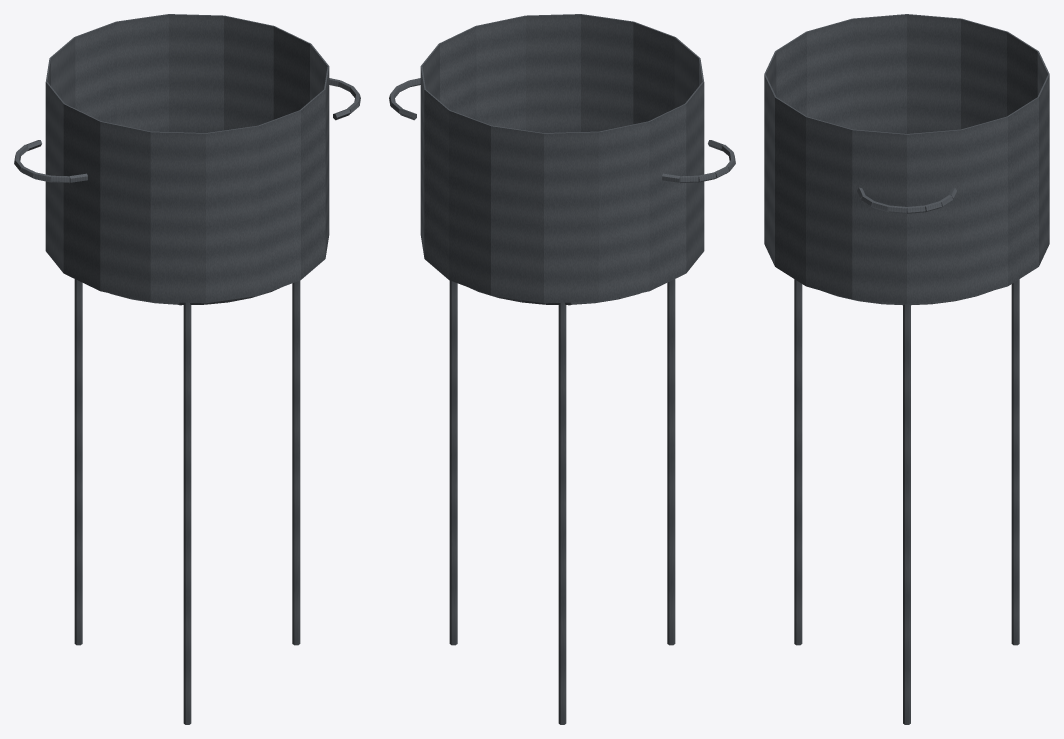
The model's file is pot.obj.
The picture shows the model from 3 angles, left to right: view 1: azimuth 30°, elevation 25°; view 2: azimuth 150°, elevation 25°; view 3: azimuth 270°, elevation 25°; orthographic projection.
Parts seen in each view (by area): view 1: material_1; view 2: material_1; view 3: material_1.
Part boxes in pixels (<box>): material_1: <box>14,14,360,724</box>; material_1: <box>389,14,735,724</box>; material_1: <box>764,14,1049,724</box>.
Bounding box in the file's own units: 15.73 × 26.82 × 11.65.
1 material, 1 textured.
